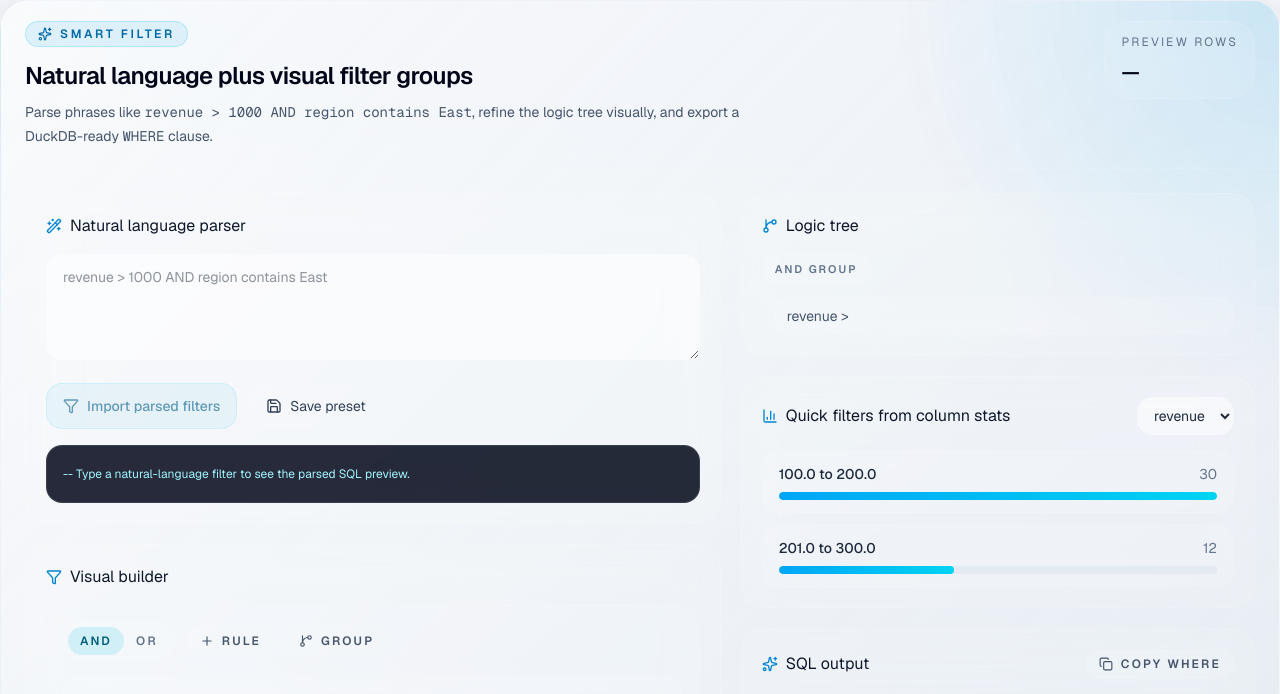
Test case: SmartFilter › adds a quick numeric filter from column stats
Step 1. Click the button "100.0 to 200.0 30" → (828, 474), box left=762, top=450, right=1234, bottom=512
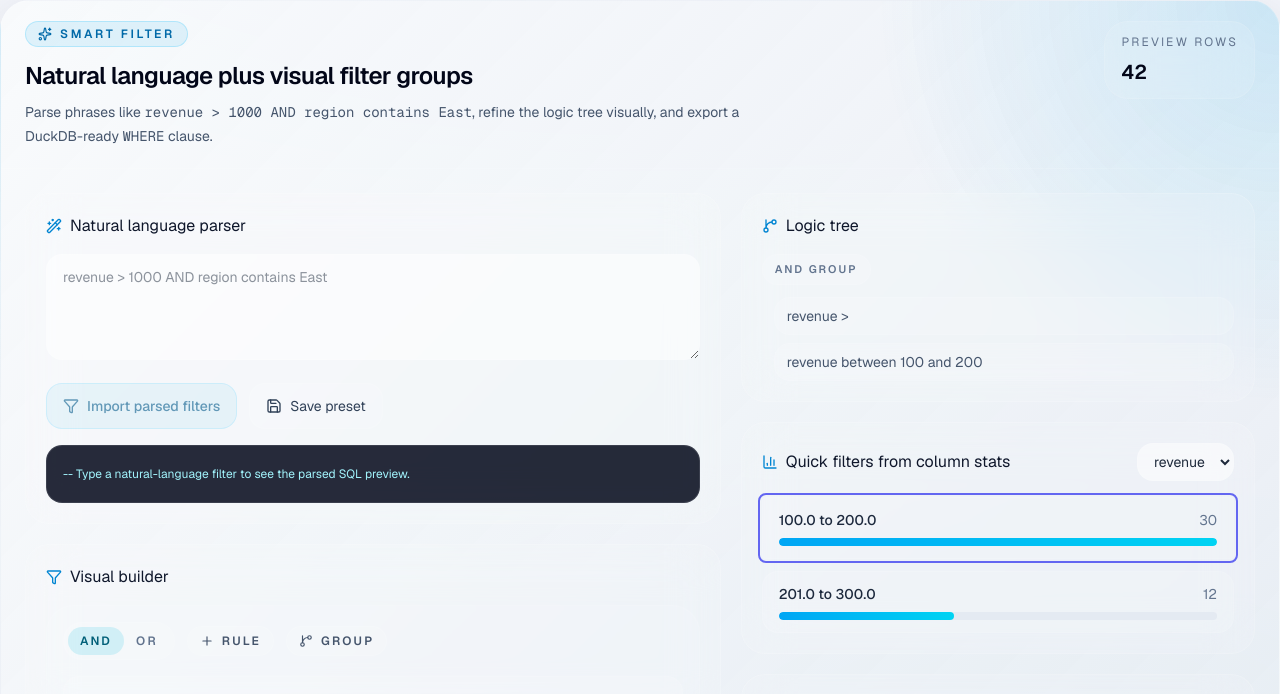
Check: the text "revenue between 100 and 200" is shown, box left=774, top=342, right=1234, bottom=380
